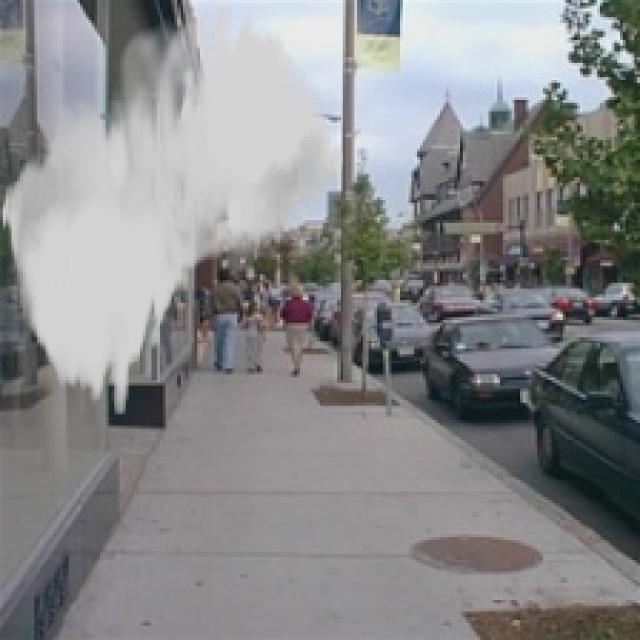smoke: (0, 6, 346, 414)
